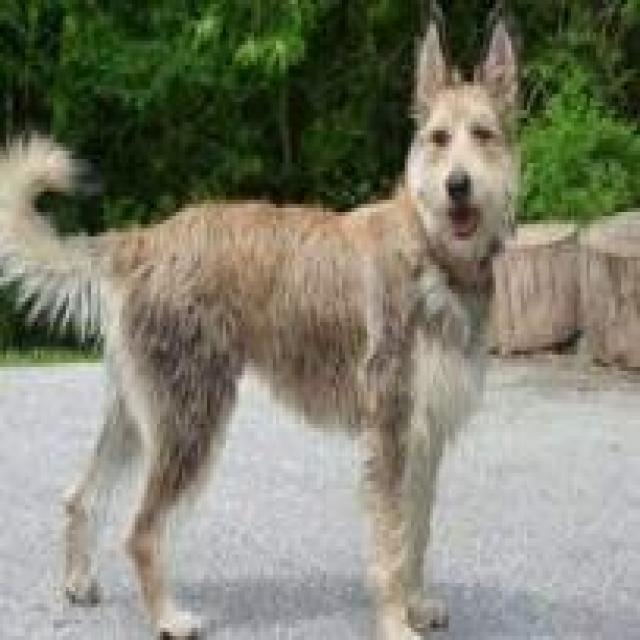Perro: (0, 0, 524, 636)
